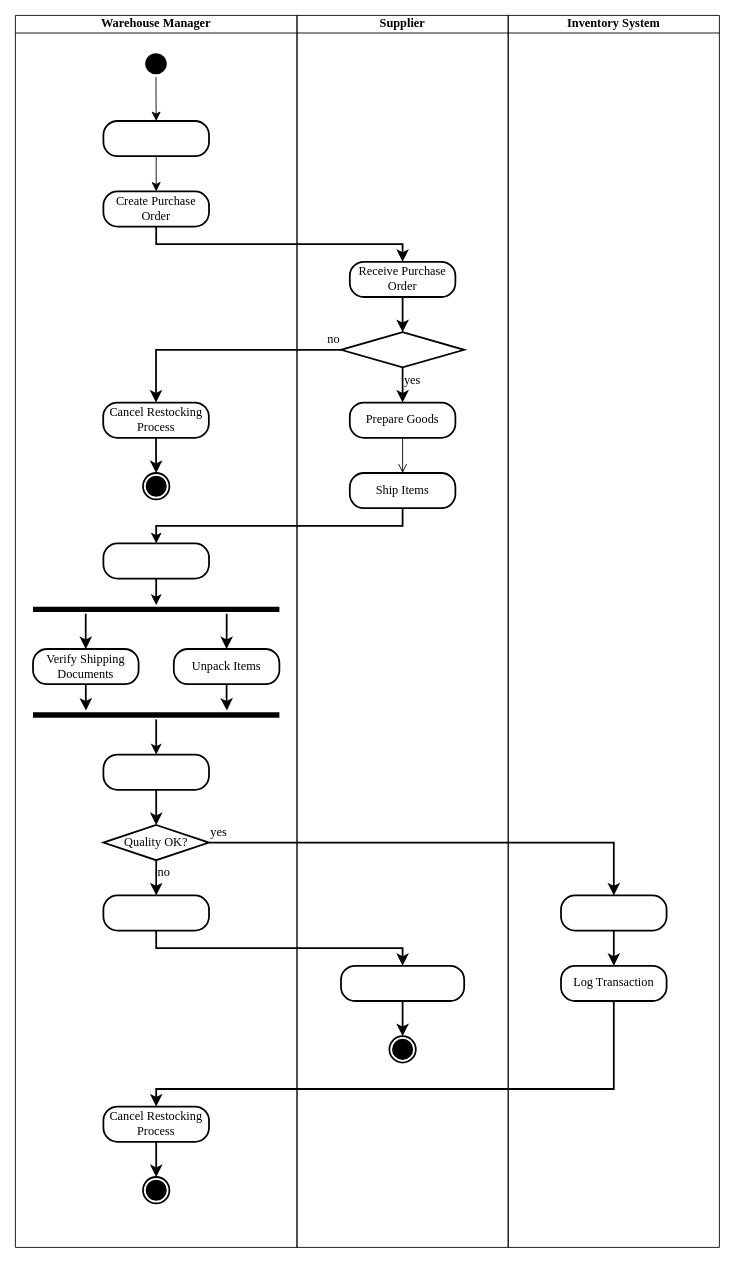
This 735x1263 diagram has some shape labels left out. The shapes that lost their labels are listed below. From the top down, each one's centre as x and y in pixels, then its label:
At [155,138]: "Identify Low Stock".
At [402,349]: "Order Confirmed?".
At [155,560]: "Receive Delivery".
At [155,771]: "Perform Quality Check".
At [155,912]: "Notify Supplier of Defect".
At [613,912]: "Update Stock Levels".
At [402,982]: "Process Refund/Replacement".
